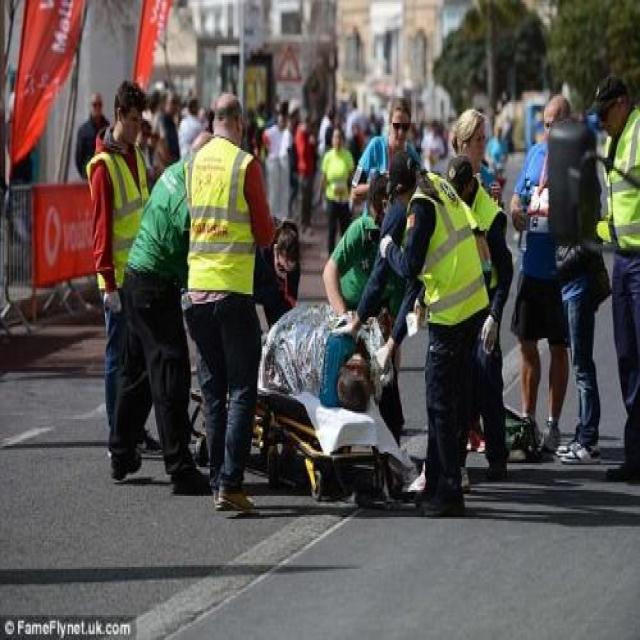10-: (70, 44, 639, 525)
down: (276, 288, 391, 408)
